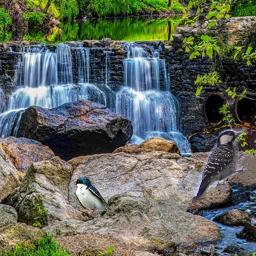Swallow: (73, 176, 112, 216)
Woodpecker: (187, 126, 250, 207)
